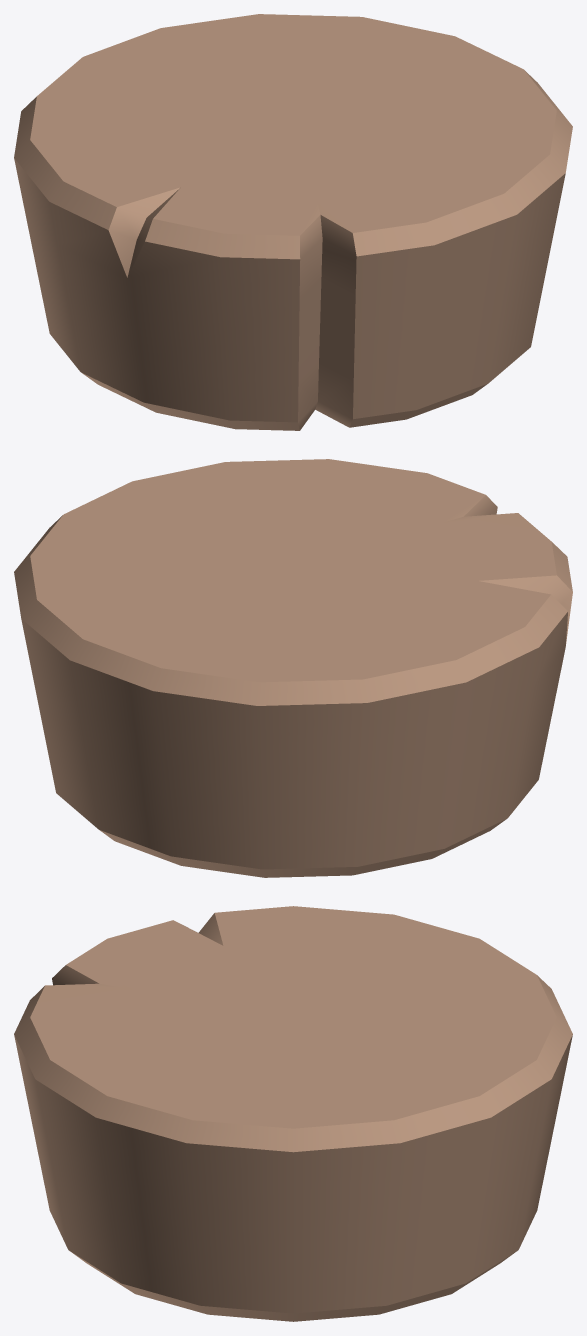
The picture shows the model from 3 angles, top to bottom: view 1: azimuth 30°, elevation 25°; view 2: azimuth 150°, elevation 25°; view 3: azimuth 270°, elevation 25°; orthographic projection.
Parts seen in each view (by area): view 1: circle; view 2: circle; view 3: circle.
Part boxes in pixels (x1,y1,x2,y2): circle: [14, 14, 572, 430]; circle: [14, 459, 572, 877]; circle: [14, 906, 572, 1321].
Size of the model in its own units: 1.98 by 0.8207 by 1.98.
